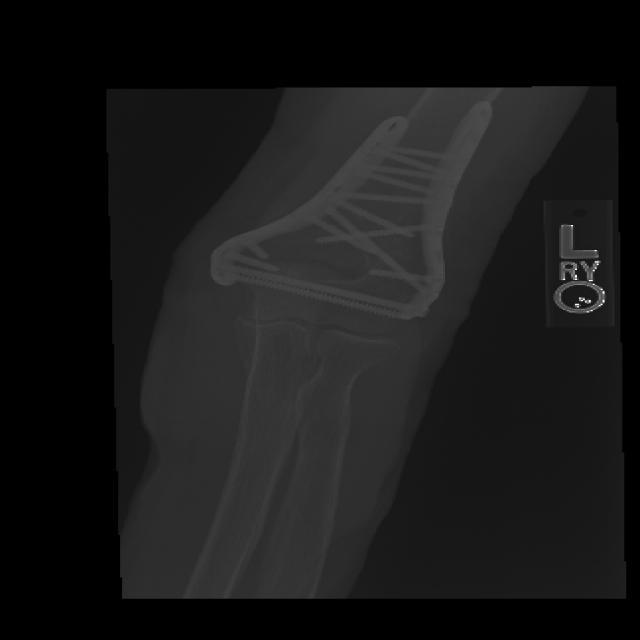elbow positive: (296, 252, 382, 289)
